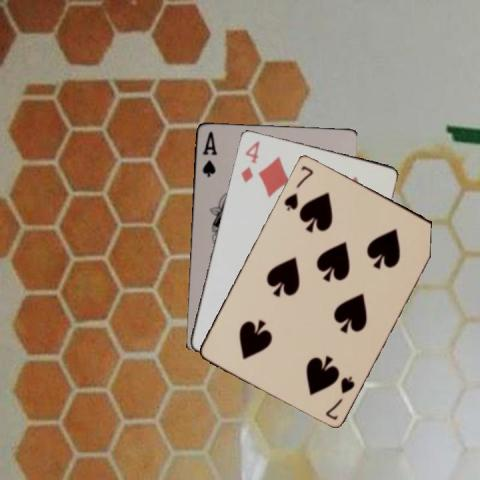4d: (238, 137, 261, 184)
7s: (280, 162, 314, 211), (322, 372, 356, 421)
As: (198, 128, 218, 179)
